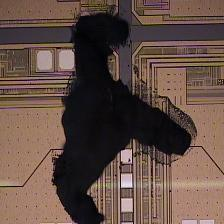PARTICLE: (49, 5, 199, 224)
